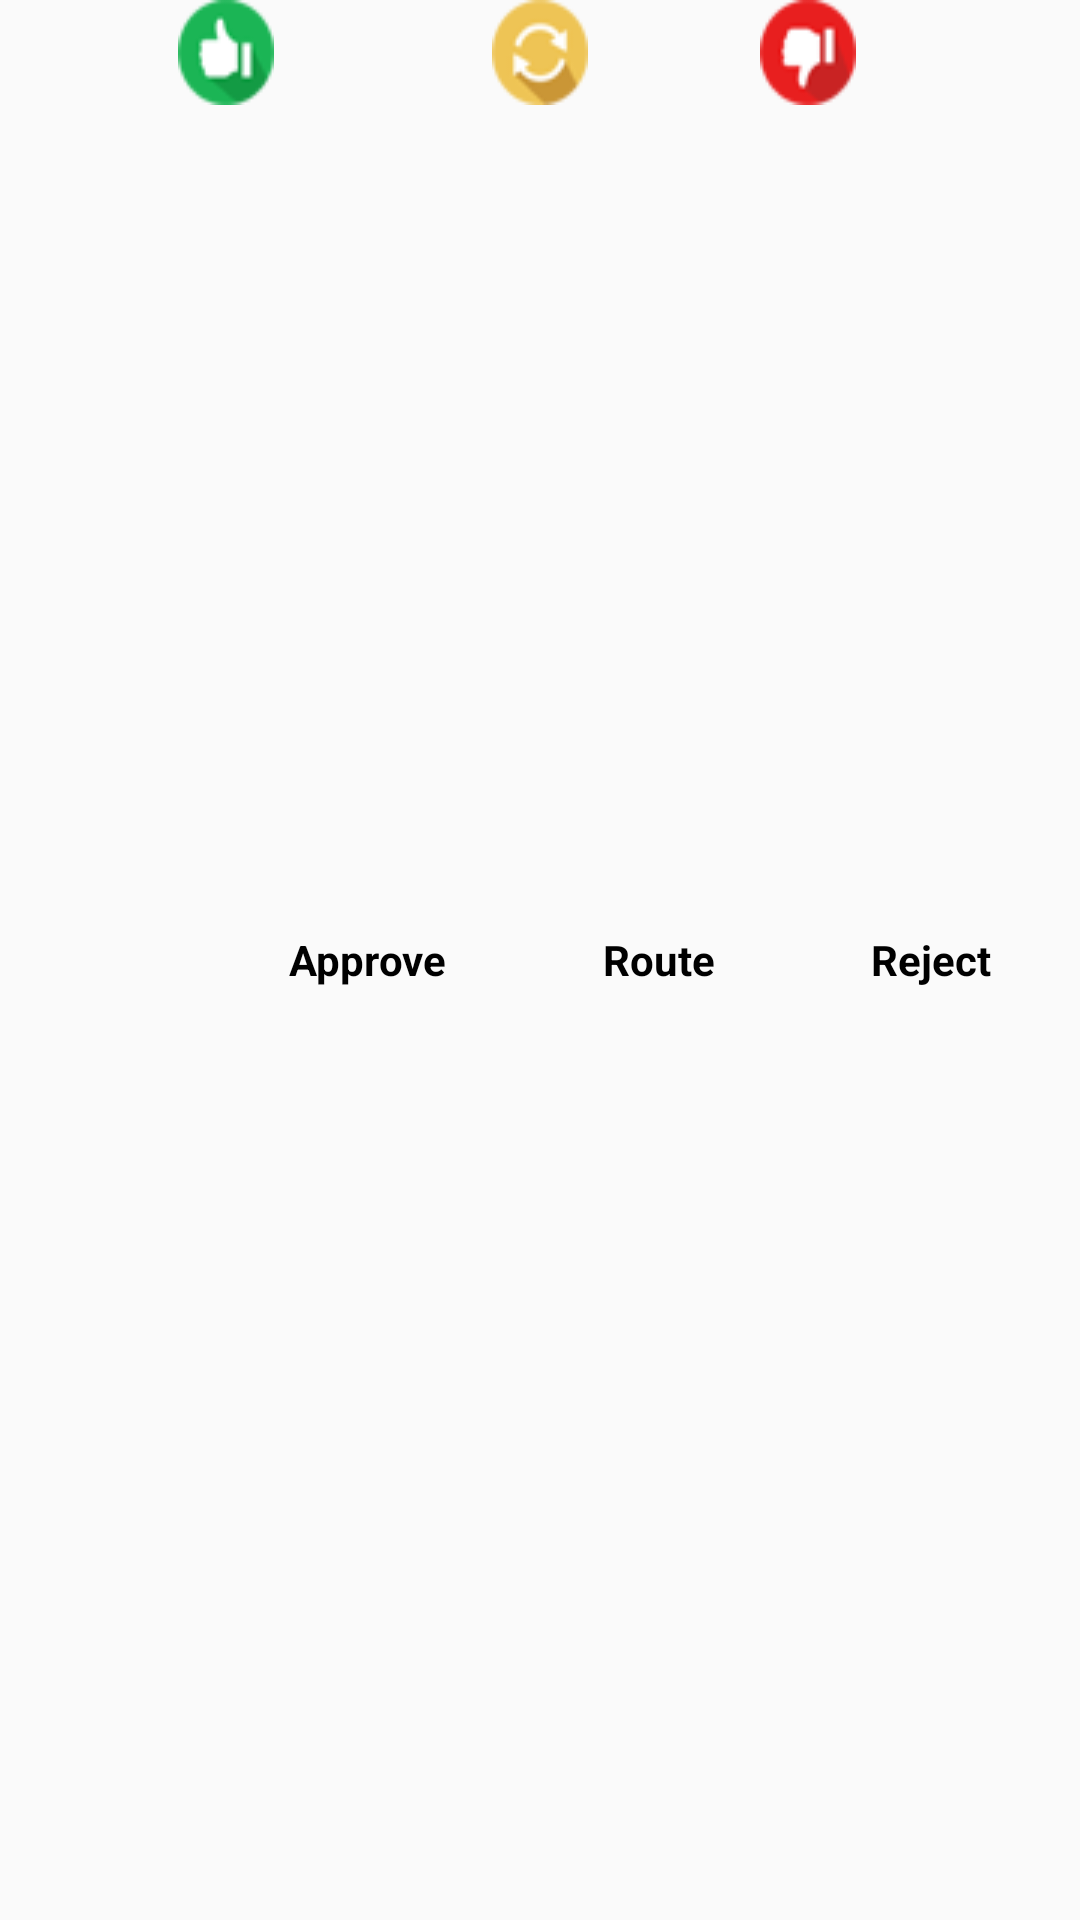

Where icons sit on this 1080 x 1920 app screen, as [x1=x1, y1=y1, x2=x2, y2=y2]:
approve: [x1=178, y1=0, x2=274, y2=105]
reject: [x1=760, y1=0, x2=856, y2=105]
